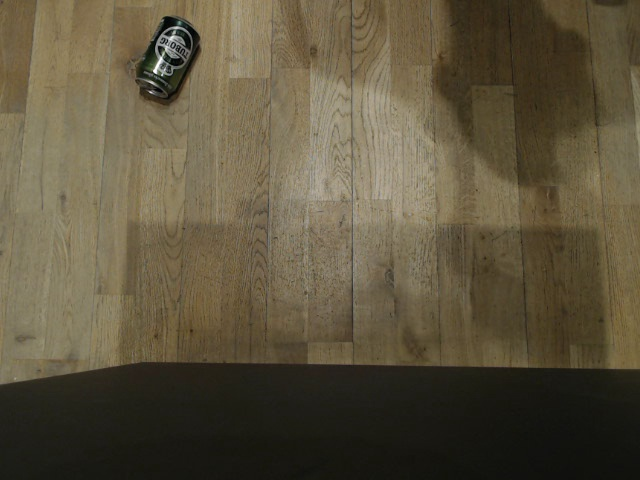beer: (132, 15, 201, 100)
